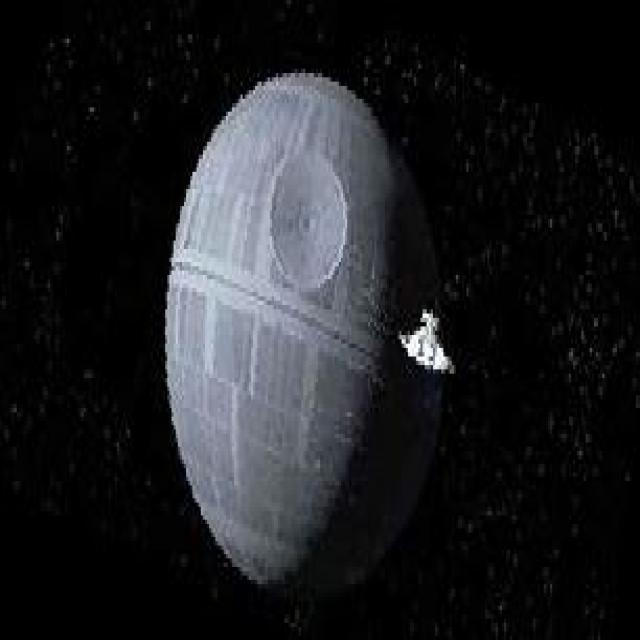Death Star: (159, 63, 460, 606)
